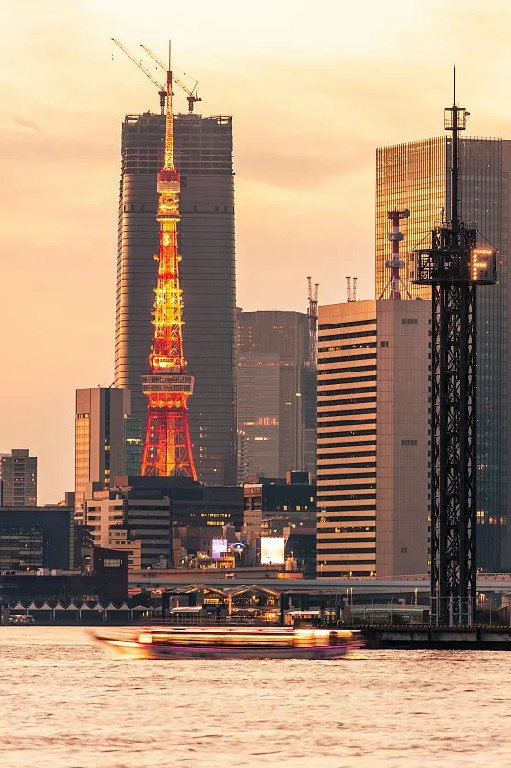Tokyo: (140, 38, 199, 482)
